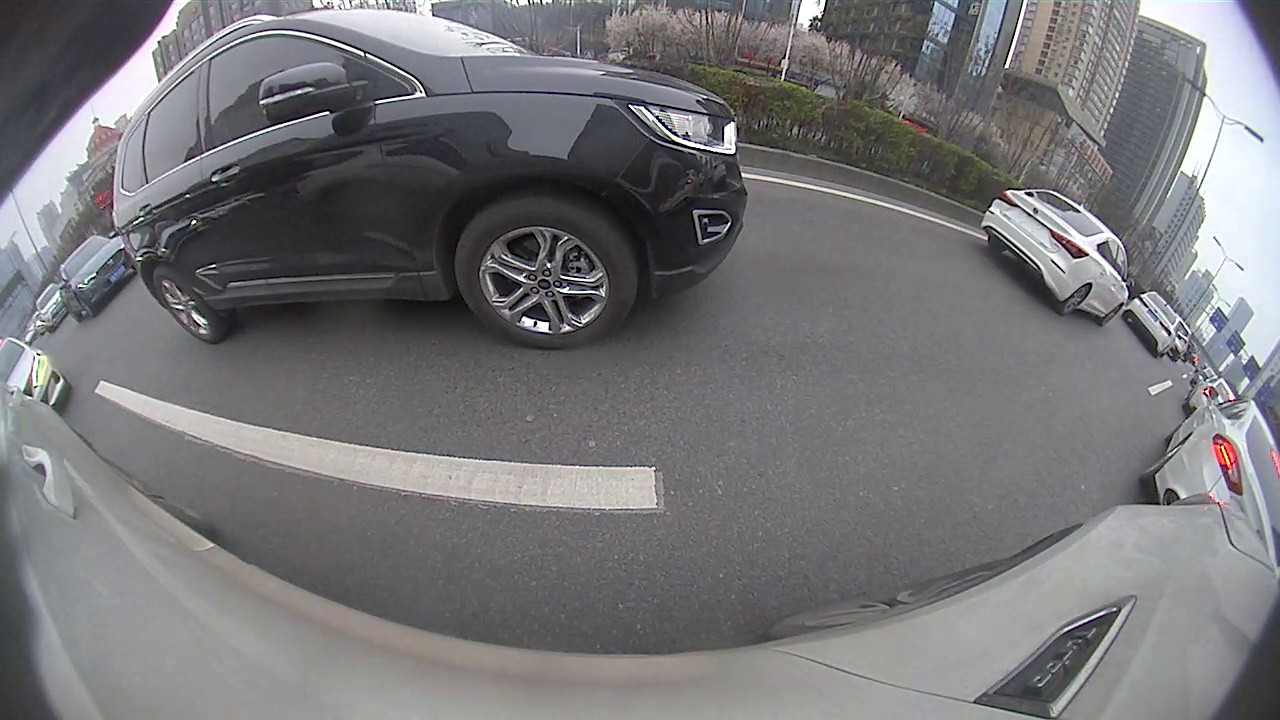car: (110, 6, 749, 352), (1137, 388, 1278, 578), (977, 186, 1138, 328), (56, 233, 139, 323), (1120, 288, 1183, 359)
front: (452, 207, 642, 349)
rear: (155, 264, 220, 343), (1061, 284, 1093, 315)
